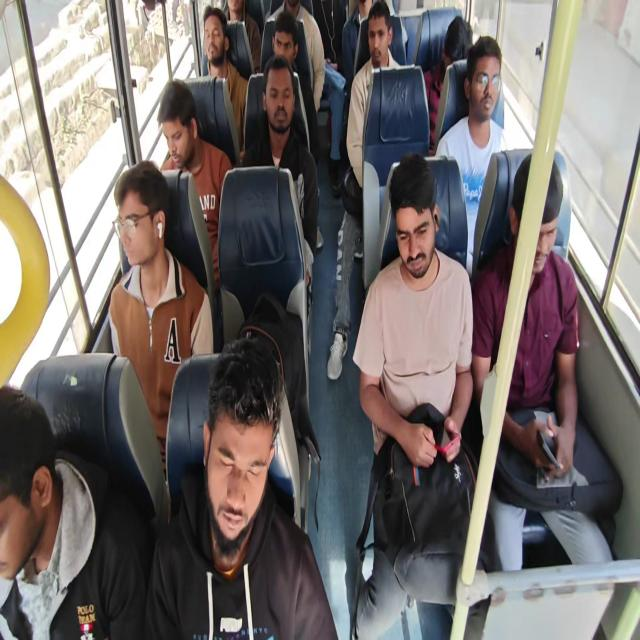person: (180, 367, 310, 510), (0, 395, 86, 608), (495, 162, 587, 313), (374, 177, 445, 320), (466, 37, 529, 196), (159, 87, 218, 194), (86, 168, 162, 250), (300, 0, 351, 95), (208, 4, 258, 100), (271, 56, 303, 134), (438, 13, 470, 80), (376, 0, 401, 82), (259, 25, 291, 85), (223, 0, 258, 47), (273, 0, 301, 44), (351, 1, 373, 18)
